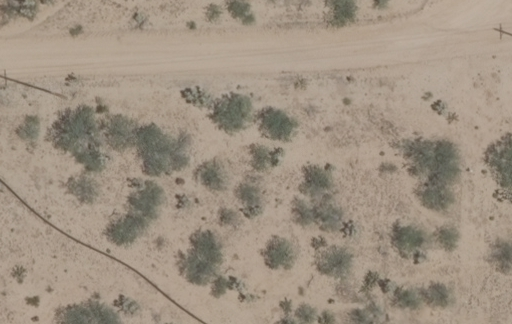DT: (3, 72, 70, 103)
